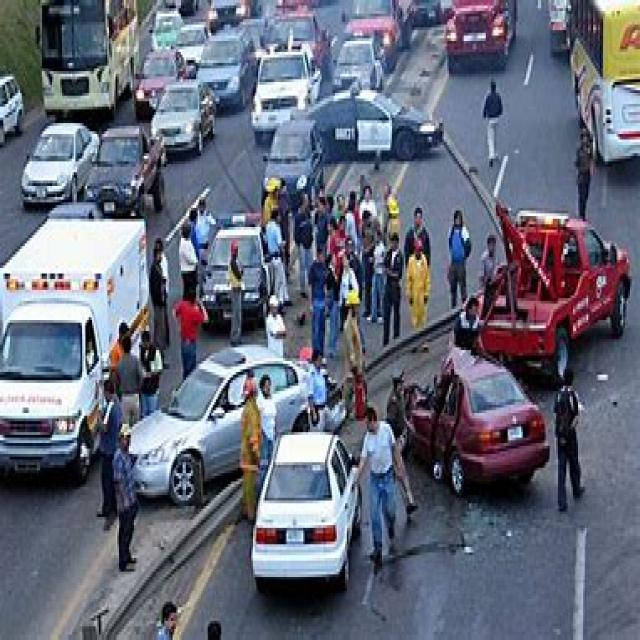Accident: (42, 66, 632, 618)
